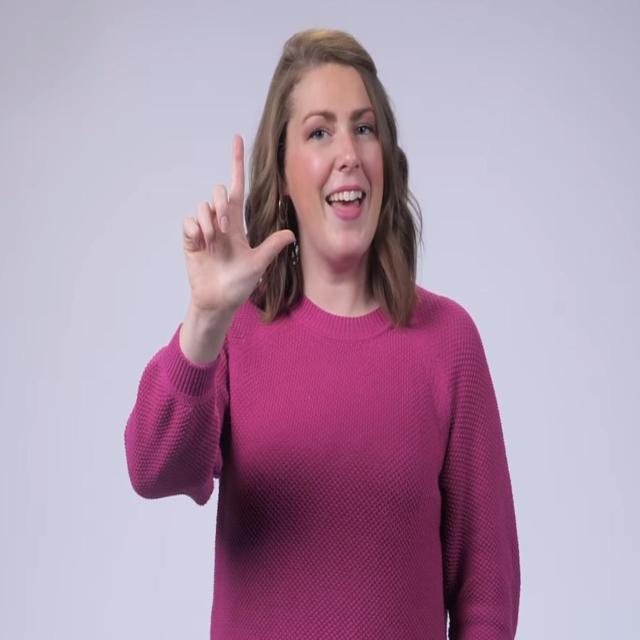L: (179, 129, 298, 314)
